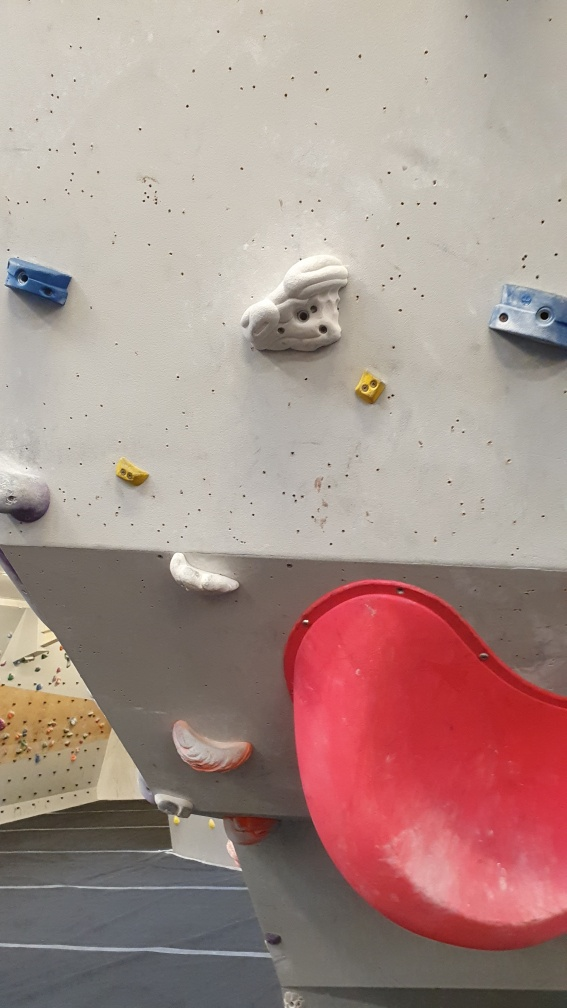Crimp: (112, 455, 152, 493)
Jug: (237, 250, 352, 359), (167, 713, 254, 780), (164, 549, 243, 601)
Pinch: (485, 280, 567, 356), (2, 249, 79, 311), (347, 366, 393, 406)
